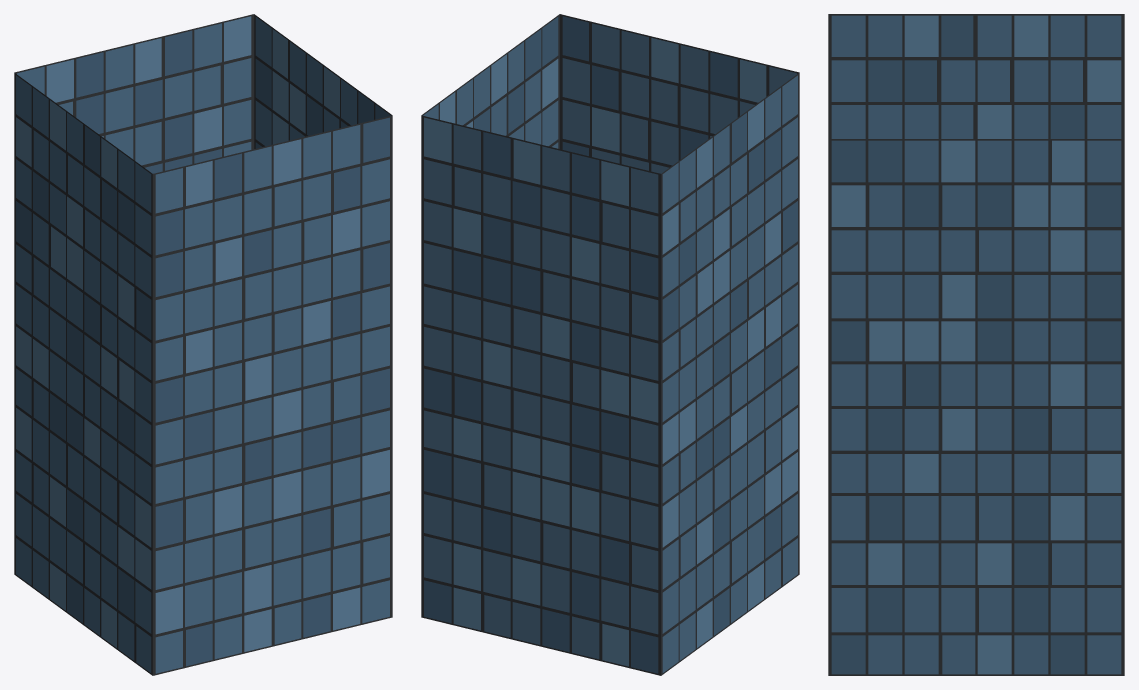
The model's file is bg-office.glb.
3 renders of one model, left to right at view 1: azimuth 30°, elevation 25°; view 2: azimuth 150°, elevation 25°; view 3: azimuth 270°, elevation 25°, orthographic. The views are drawn at different scales.
Visible parts, largest first — view 1: SM_Bld_OfficeSquare_01; view 2: SM_Bld_OfficeSquare_01; view 3: SM_Bld_OfficeSquare_01.
Boxes of the visible parts, x1,y1,x2,y2 form: SM_Bld_OfficeSquare_01: (14, 14, 392, 675); SM_Bld_OfficeSquare_01: (421, 14, 799, 675); SM_Bld_OfficeSquare_01: (828, 14, 1124, 675).
Size of the model in its own units: 21 by 42 by 21.
1 material, 1 textured.
